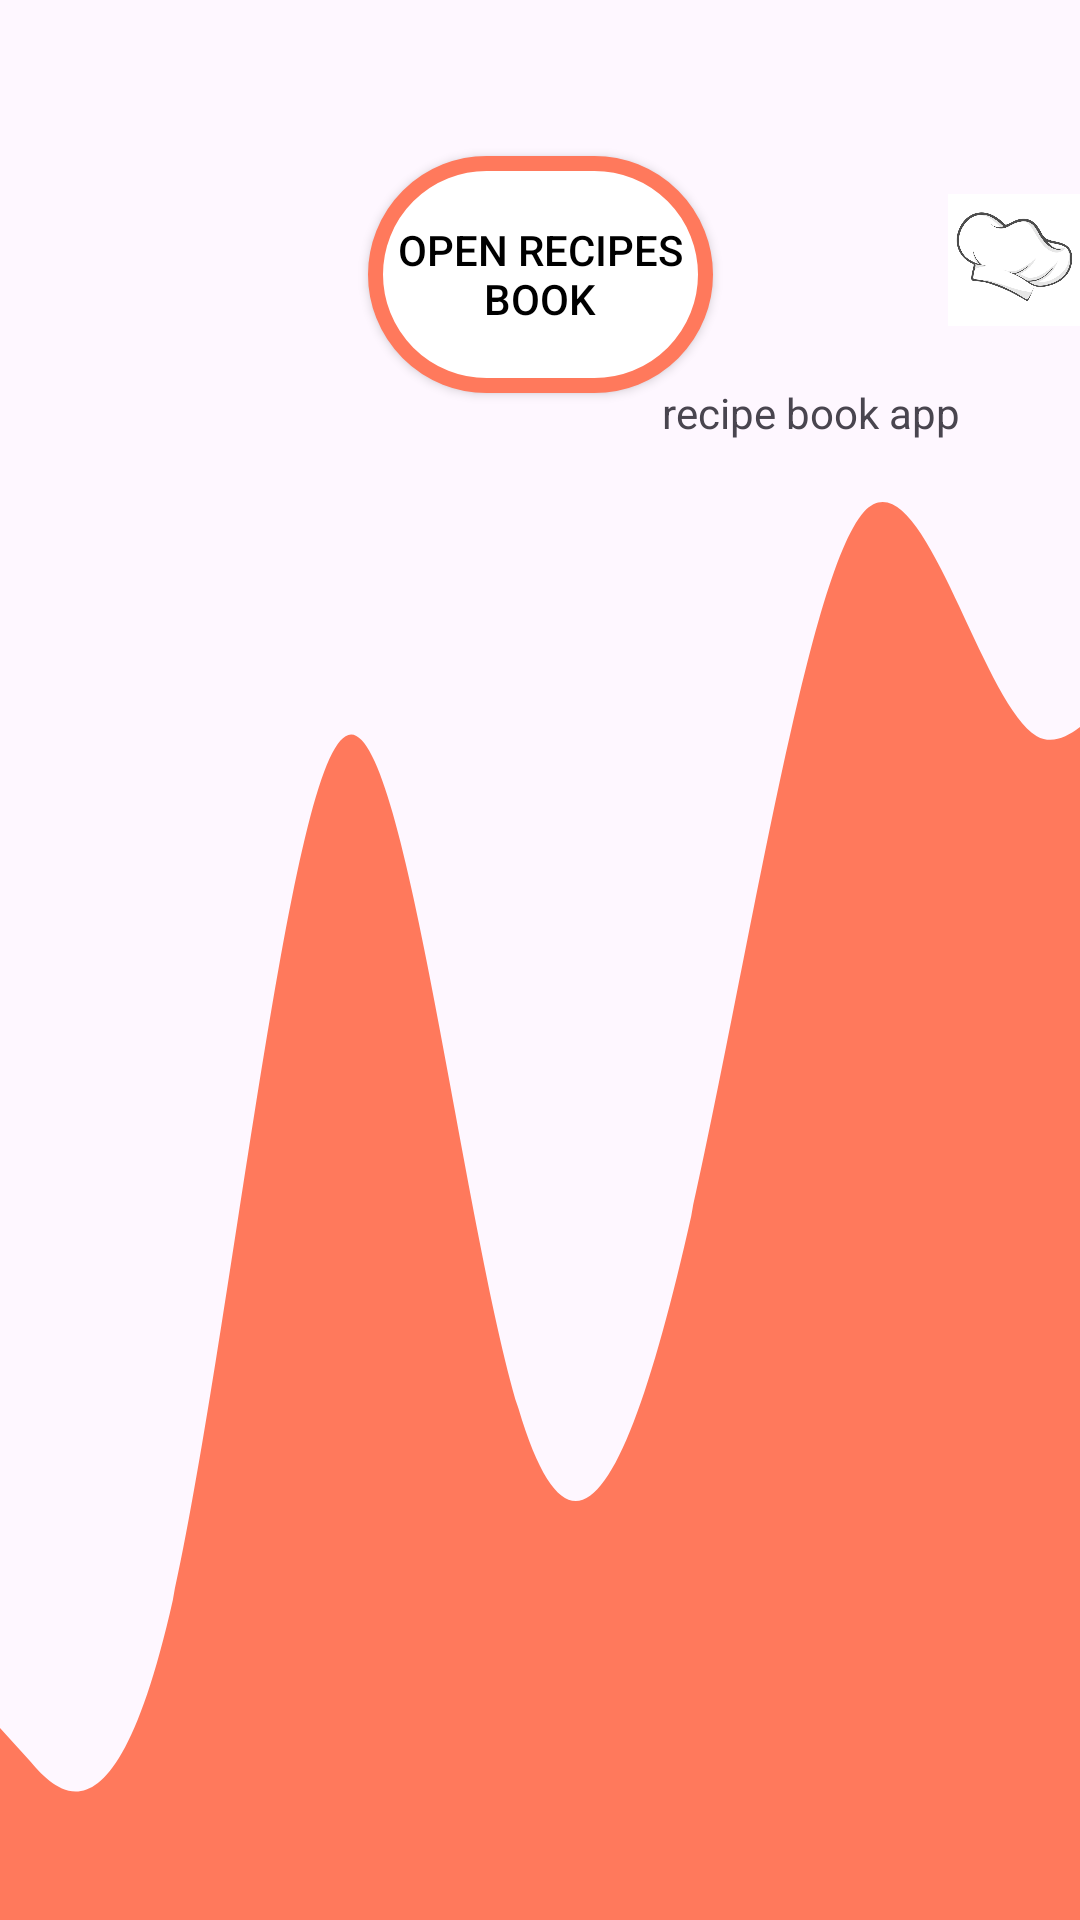

Screen size 1080w x 1920h. Icon name, then its box in pixels as (x1, y1, x2, y2):
hat: (957, 212, 1072, 301)
